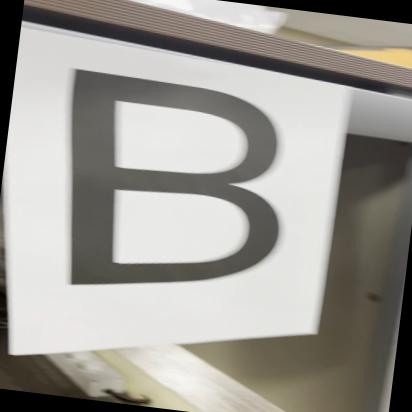seat: (14, 49, 358, 324)
